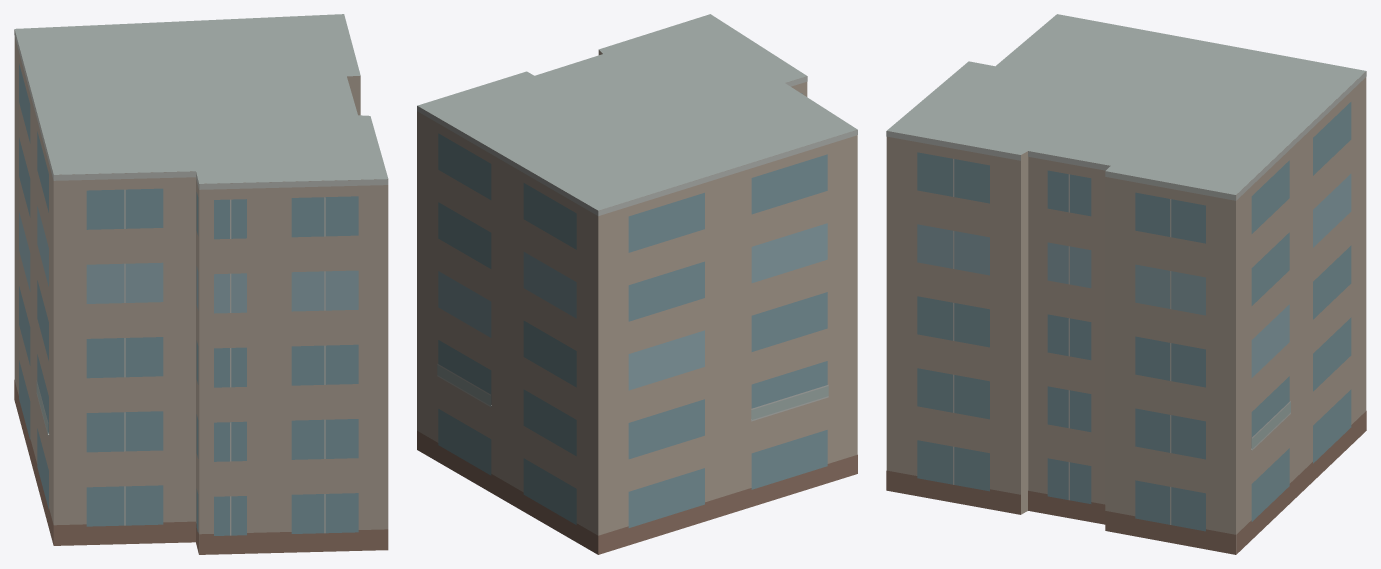
File: survey-upis-32482122.glb
3 renders of one model, left to right at view 1: azimuth 30°, elevation 25°; view 2: azimuth 150°, elevation 25°; view 3: azimuth 270°, elevation 25°, orthographic. The views are drawn at different scales.
Visible parts, largest first — view 1: survey-upis-32482122.tmp; view 2: survey-upis-32482122.tmp; view 3: survey-upis-32482122.tmp.
Part boxes in pixels (x1,y1,x2,y2): survey-upis-32482122.tmp: [14, 14, 388, 554]; survey-upis-32482122.tmp: [417, 14, 857, 554]; survey-upis-32482122.tmp: [886, 14, 1366, 554].
Size of the model in its own units: 16.47 by 15.25 by 18.45.
